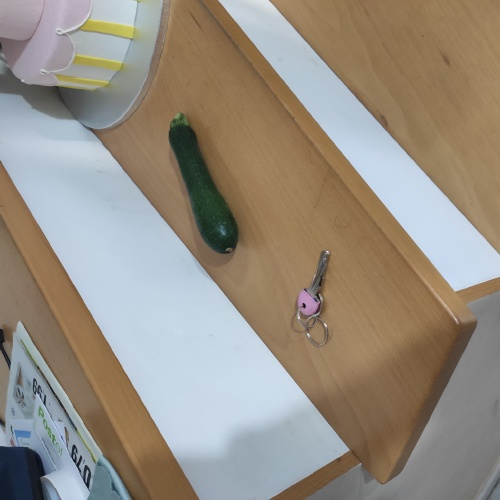zucchine: (164, 108, 247, 261)
